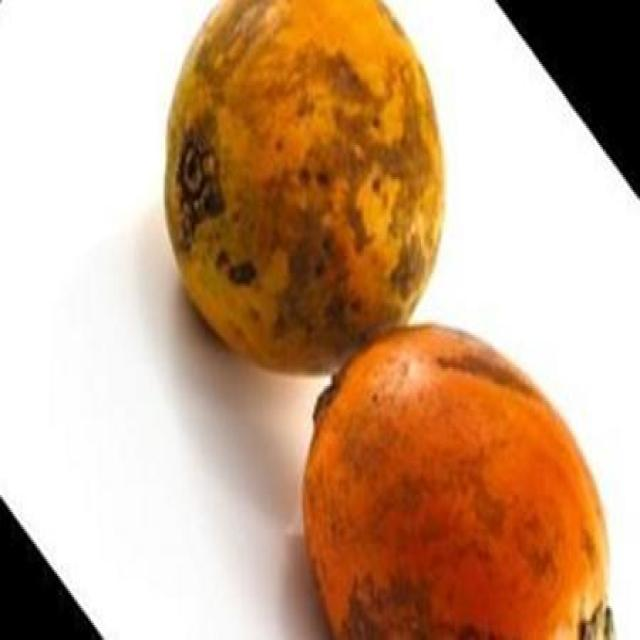good: (164, 0, 447, 380)
